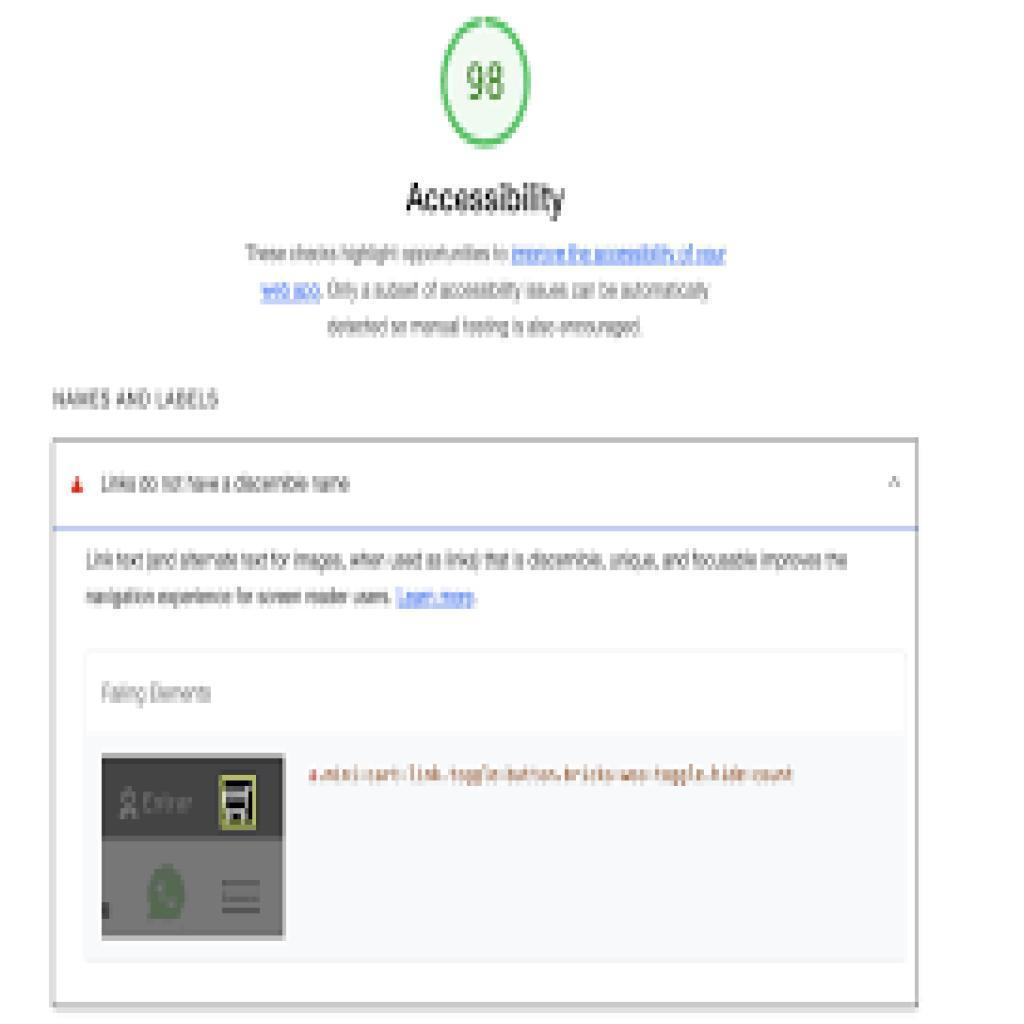dropdown: (49, 447, 922, 527)
